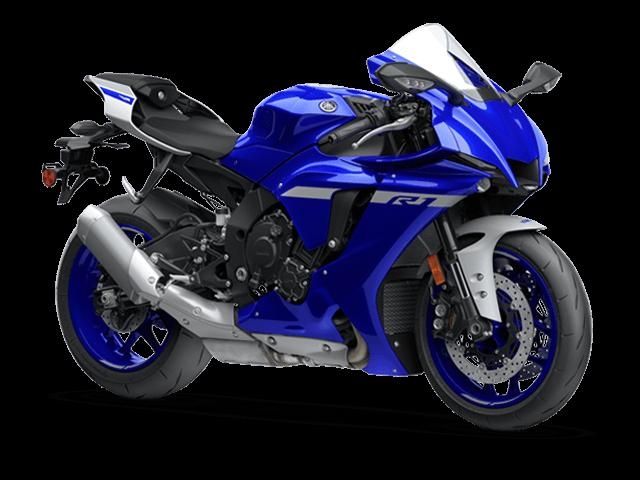motorbike: (41, 22, 592, 432)
